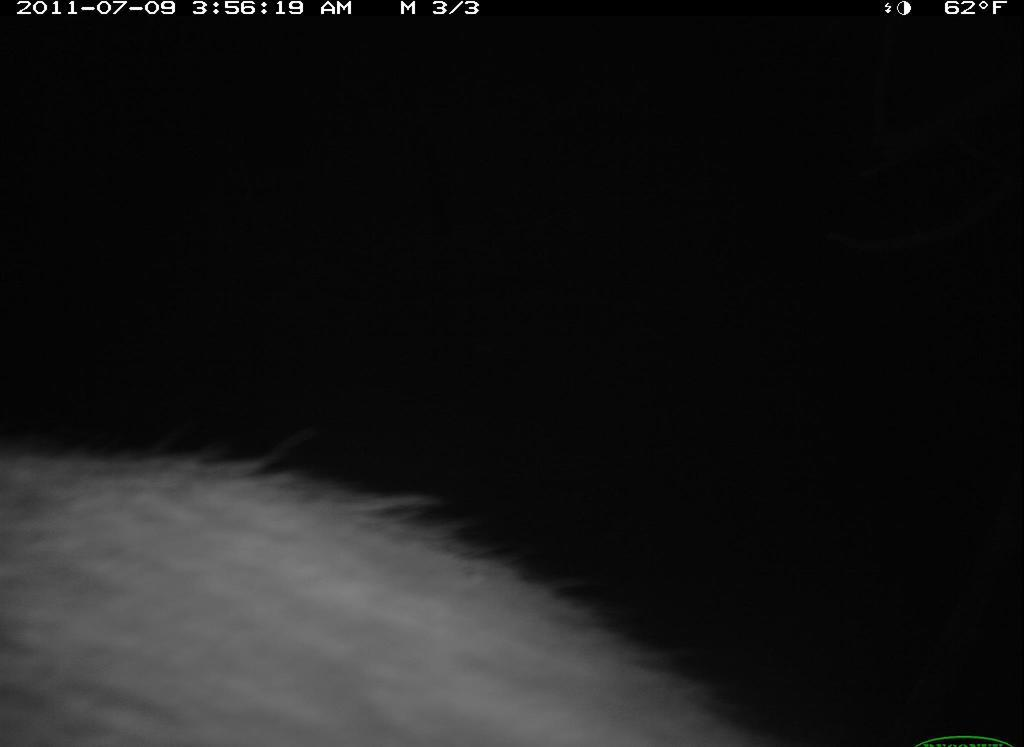raccoon: (1, 429, 763, 747)
